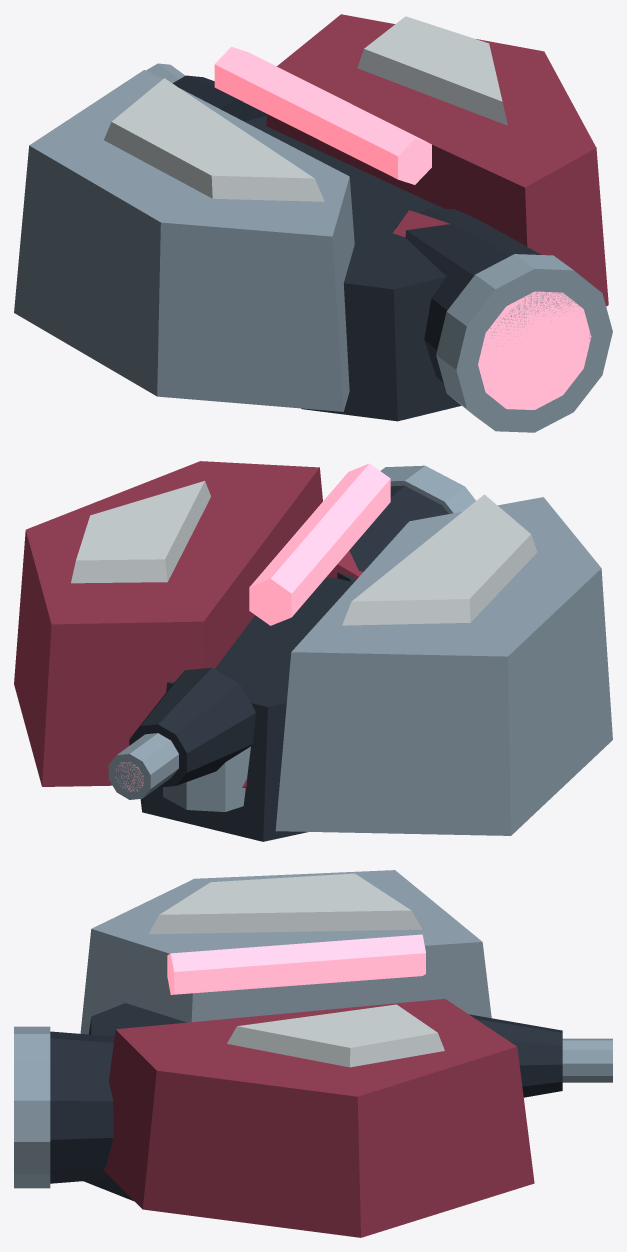
Rendered from miniasteroid.glb.
3 renders of one model, top to bottom at view 1: azimuth 30°, elevation 25°; view 2: azimuth 150°, elevation 25°; view 3: azimuth 270°, elevation 25°, orthographic. The views are drawn at different scales.
Visible parts, largest first — view 1: miniasteroid / Titanium, miniasteroid / Armor, miniasteroid / Chassis, miniasteroid / Identification, miniasteroid / Energy; view 2: miniasteroid / Titanium, miniasteroid / Armor, miniasteroid / Chassis, miniasteroid / Identification, miniasteroid / Energy; view 3: miniasteroid / Armor, miniasteroid / Titanium, miniasteroid / Identification, miniasteroid / Chassis, miniasteroid / Energy.
Boxes of the visible parts, bbox=[...] form: miniasteroid / Titanium: bbox=[14, 63, 612, 432]; miniasteroid / Armor: bbox=[266, 14, 608, 306]; miniasteroid / Chassis: bbox=[172, 75, 541, 421]; miniasteroid / Identification: bbox=[104, 16, 507, 201]; miniasteroid / Energy: bbox=[214, 46, 591, 409]; miniasteroid / Titanium: bbox=[108, 465, 612, 835]; miniasteroid / Armor: bbox=[14, 461, 362, 787]; miniasteroid / Chassis: bbox=[129, 485, 448, 841]; miniasteroid / Identification: bbox=[71, 481, 537, 625]; miniasteroid / Energy: bbox=[116, 463, 390, 791]; miniasteroid / Armor: bbox=[103, 999, 534, 1237]; miniasteroid / Titanium: bbox=[14, 870, 612, 1188]; miniasteroid / Identification: bbox=[148, 873, 444, 1067]; miniasteroid / Chassis: bbox=[50, 1003, 562, 1201]; miniasteroid / Energy: bbox=[167, 934, 425, 994].
Bounding box in the file's own units: 0.95 × 0.421 × 1.07.
